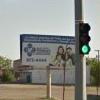traffic lights: (77, 22, 91, 55)
